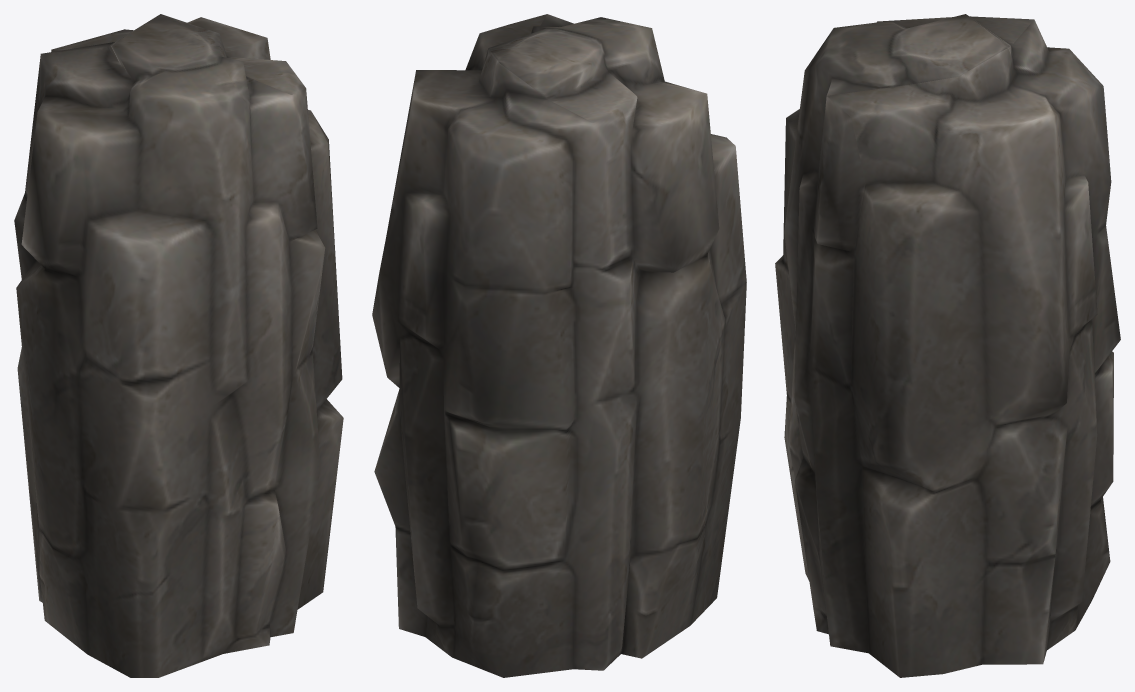
The model's file is BigRock02.FBX.
The picture shows the model from 3 angles, left to right: view 1: azimuth 30°, elevation 25°; view 2: azimuth 150°, elevation 25°; view 3: azimuth 270°, elevation 25°; orthographic projection.
Parts seen in each view (by area): view 1: BigRock02; view 2: BigRock02; view 3: BigRock02.
Part boxes in pixels (bbox=[...]): BigRock02: bbox=[14, 14, 343, 677]; BigRock02: bbox=[372, 14, 746, 677]; BigRock02: bbox=[775, 14, 1120, 677].
Bounding box in the file's own units: 3.93 × 3.92 × 7.19.
